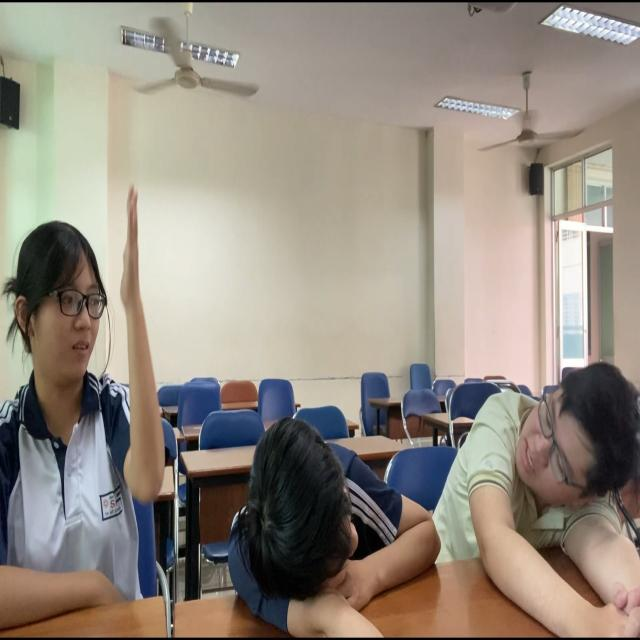raise_hand: (1, 180, 164, 640)
sleep: (433, 351, 640, 607), (226, 415, 431, 636)
